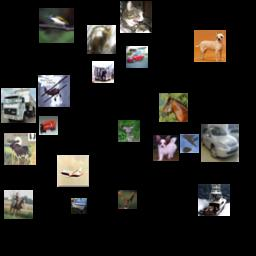airplane: (57, 155, 89, 187), (38, 75, 70, 107), (180, 134, 199, 153)
automobile: (201, 124, 239, 162), (126, 46, 148, 68)
bird: (39, 8, 74, 43)
cat: (120, 1, 152, 33), (87, 25, 116, 54)
deer: (4, 133, 36, 165), (118, 120, 140, 142), (118, 190, 137, 209)
dog: (194, 30, 226, 62), (153, 135, 179, 161)
ship: (198, 184, 230, 216), (71, 198, 87, 214)
truck: (1, 88, 36, 123), (92, 61, 114, 83), (39, 116, 58, 135)
